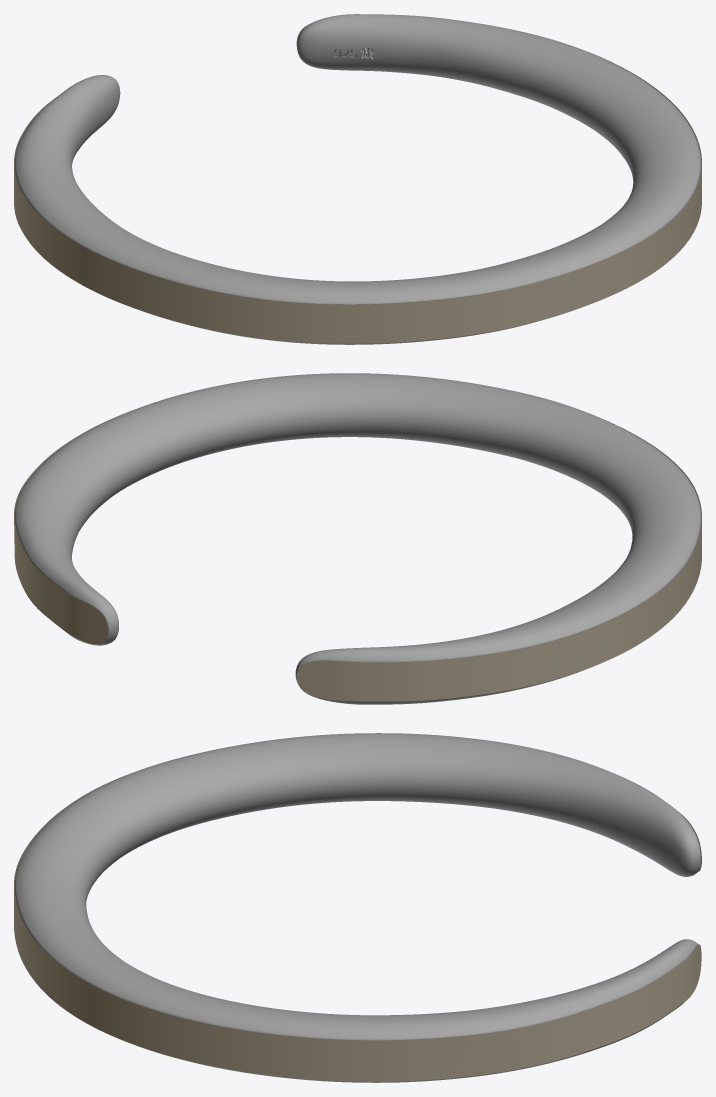
Rendered from light-silver.glb.
3 renders of one model, top to bottom at view 1: azimuth 30°, elevation 25°; view 2: azimuth 150°, elevation 25°; view 3: azimuth 270°, elevation 25°, orthographic. The views are drawn at different scales.
Visible parts, largest first — view 1: ring-body.006, ring-body.007; view 2: ring-body.006, ring-body.007; view 3: ring-body.006, ring-body.007.
Part boxes in pixels (box(x1,y1,x2,y2)): ring-body.006: box(14, 14, 701, 344); ring-body.007: box(14, 25, 701, 343); ring-body.006: box(15, 373, 701, 704); ring-body.007: box(14, 412, 701, 701); ring-body.006: box(14, 733, 700, 1082); ring-body.007: box(14, 776, 701, 1081).
Size of the model in its own units: 0.5126 by 0.0444 by 0.4867.
Materials: 2 (2 with a texture image).
